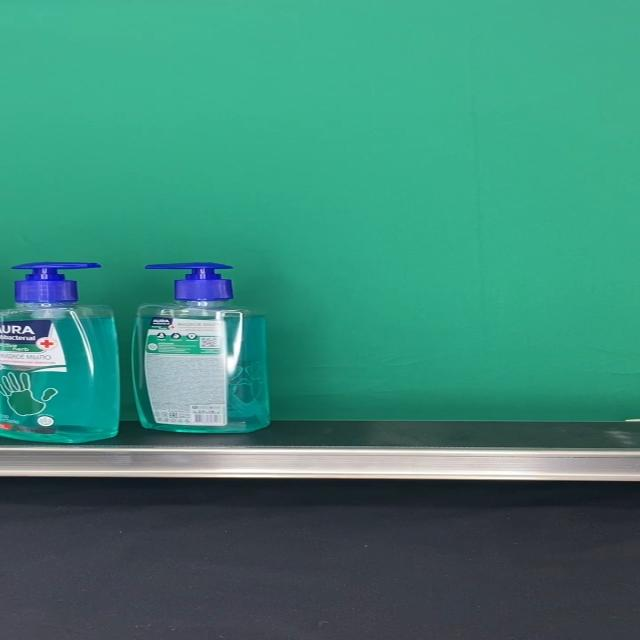Bottle: (132, 262, 270, 433), (0, 260, 119, 443)
Cap: (11, 261, 102, 302), (143, 263, 234, 303)
